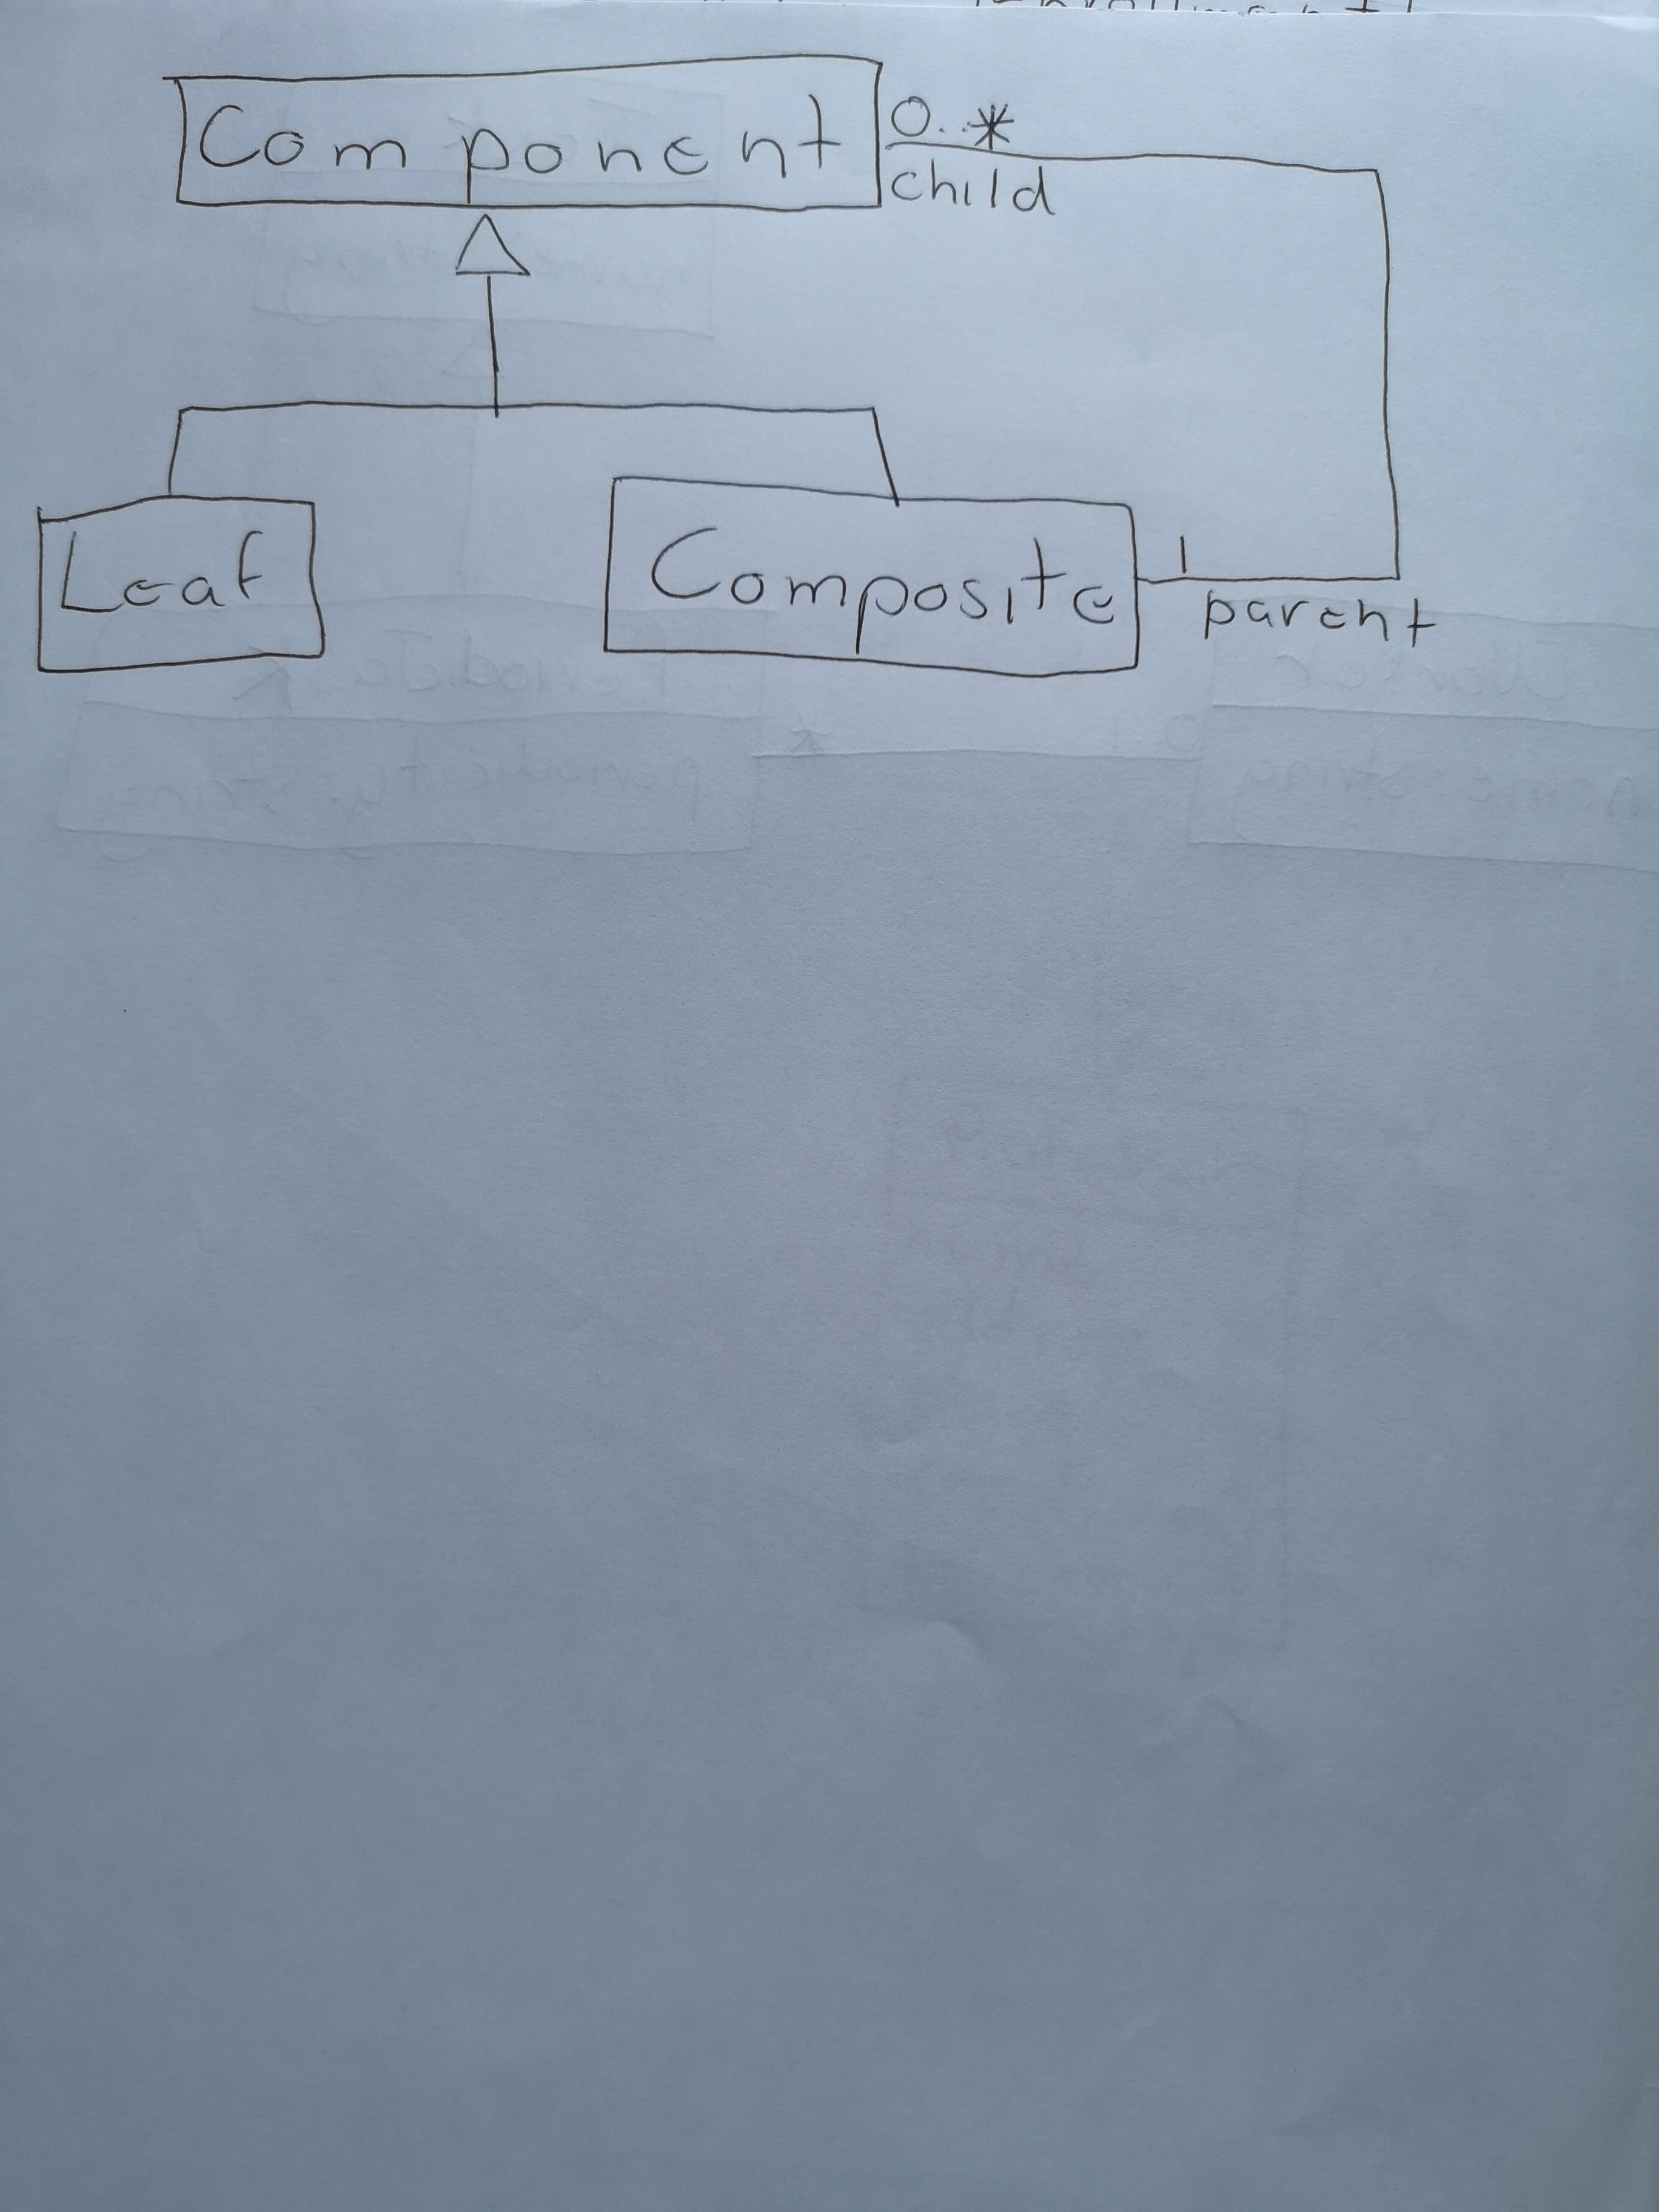association: (877, 78, 1436, 649)
inheritance: (166, 216, 903, 512)
simple class: (150, 47, 896, 222), (590, 464, 1151, 685), (25, 487, 332, 679)
